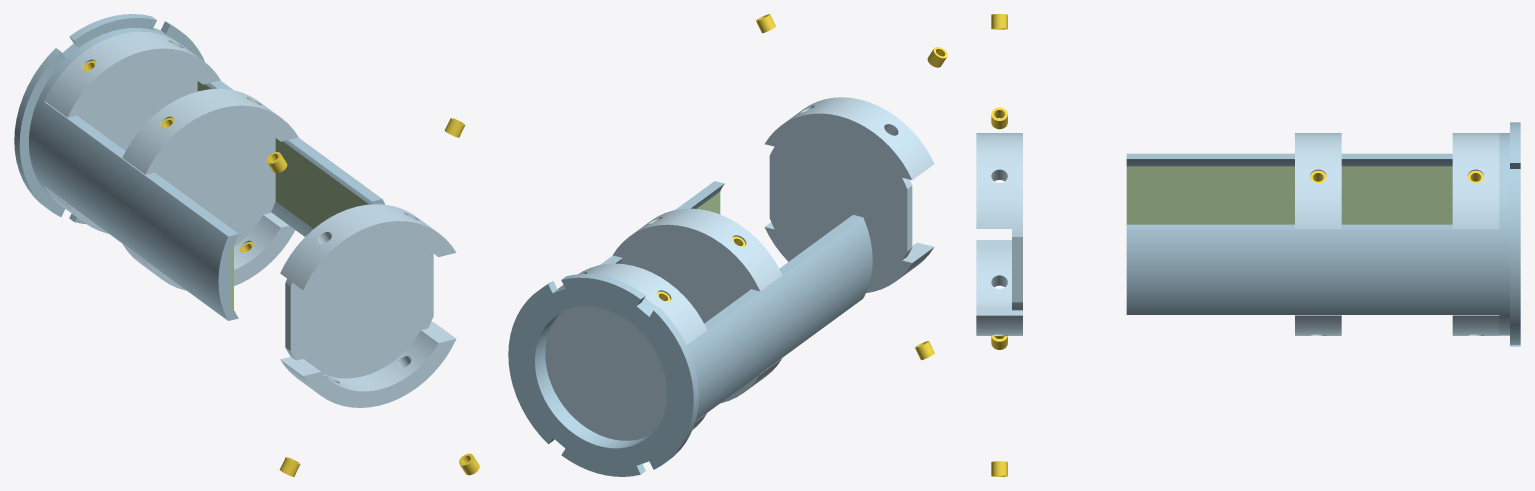
The model's file is CanSat.gltf.
The picture shows the model from 3 angles, left to right: view 1: azimuth 30°, elevation 25°; view 2: azimuth 150°, elevation 25°; view 3: azimuth 270°, elevation 25°; orthographic projection. The views are drawn at different scales.
Visible parts, largest first — view 1: Part 1 (×4), pcb2; view 2: Part 1 (×4); view 3: Part 1 (×4), pcb1.
Part boxes in pixels (bbox=[...]): Part 1 (×4): bbox=[14, 14, 456, 407]; pcb2: bbox=[197, 81, 368, 228]; Part 1 (×4): bbox=[508, 97, 934, 476]; Part 1 (×4): bbox=[976, 122, 1520, 346]; pcb1: bbox=[1126, 166, 1477, 224].
Bounding box in the file's own units: 0.0687 × 0.1143 × 0.152.
